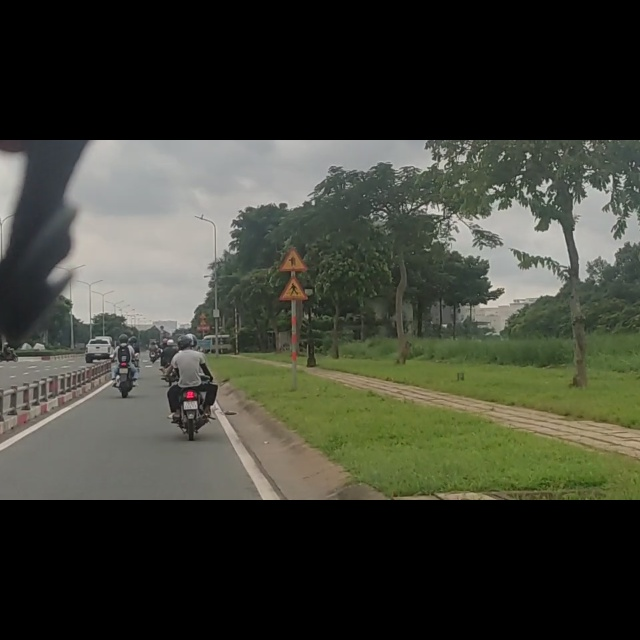bien_nguy_hiem: (279, 242, 308, 284), (280, 190, 307, 233)
